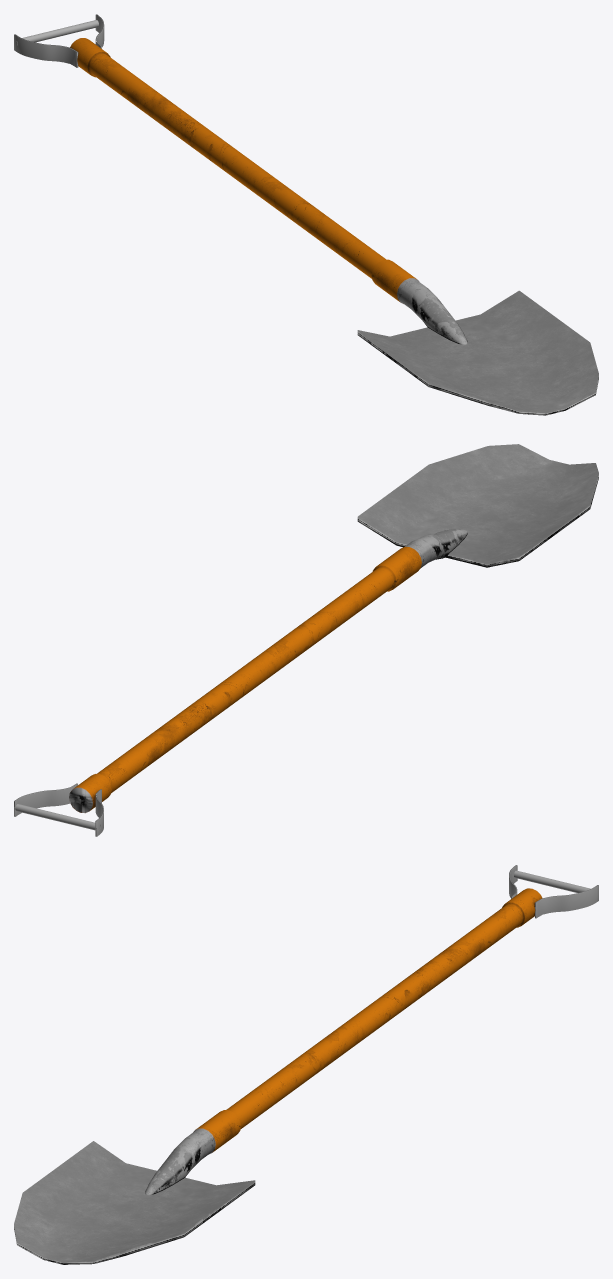
File: ShovelText.fbx
The picture shows the model from 3 angles, top to bottom: view 1: azimuth 30°, elevation 25°; view 2: azimuth 150°, elevation 25°; view 3: azimuth 330°, elevation 25°; orthographic projection.
Visible parts, largest first — view 1: Metal, Body, Insert, Bar, Handle; view 2: Metal, Body, Bar, Insert, Handle; view 3: Metal, Body, Insert, Bar, Handle.
Part boxes in pixels (x1=…): Metal: x1=357, y1=290, x2=598, y2=415; Body: x1=70, y1=38, x2=418, y2=303; Insert: x1=397, y1=278, x2=467, y2=344; Bar: x1=14, y1=14, x2=104, y2=67; Handle: x1=17, y1=20, x2=98, y2=45; Metal: x1=357, y1=444, x2=598, y2=567; Body: x1=69, y1=546, x2=421, y2=813; Bar: x1=14, y1=783, x2=103, y2=836; Insert: x1=405, y1=529, x2=467, y2=568; Handle: x1=15, y1=804, x2=100, y2=830; Metal: x1=14, y1=1141, x2=255, y2=1264; Body: x1=193, y1=888, x2=542, y2=1153; Insert: x1=145, y1=1128, x2=215, y2=1195; Bar: x1=509, y1=865, x2=598, y2=918; Handle: x1=514, y1=870, x2=590, y2=892.
Bounding box in the file's own units: 0.4392 × 0.0856 × 2.36.
3 materials, 2 textured.
